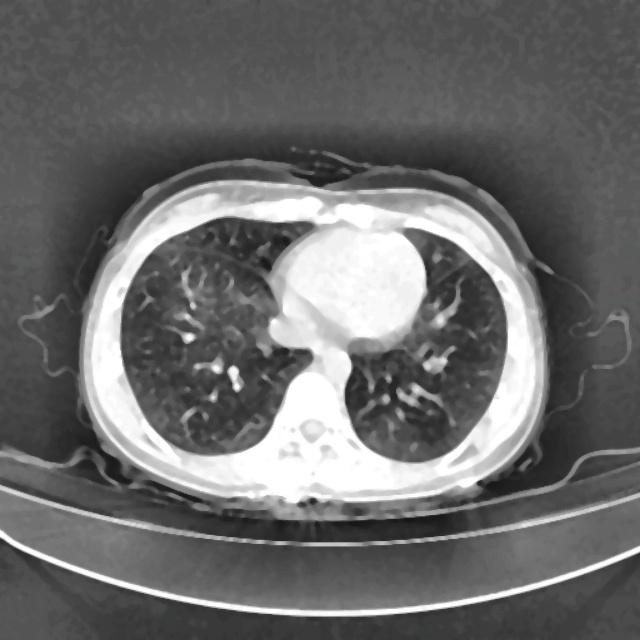covid: (76, 156, 552, 519)
